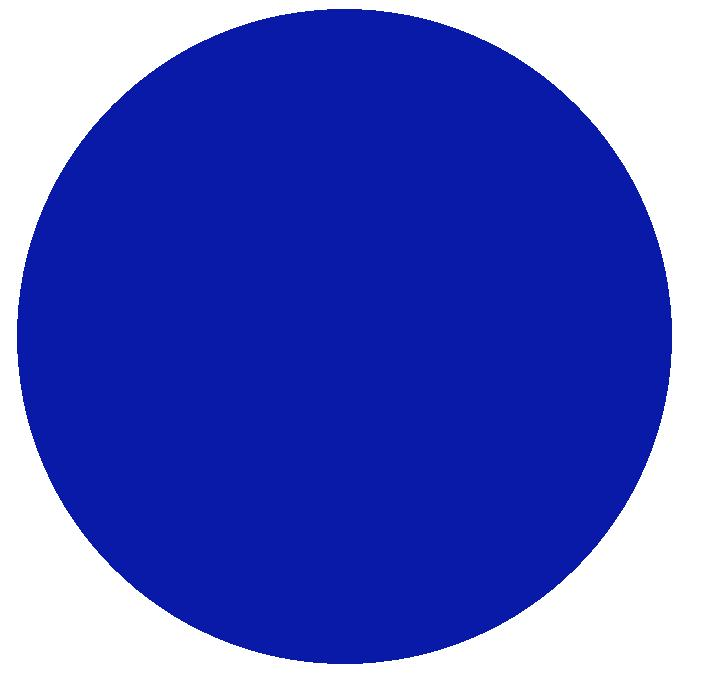blue_circle: (5, 0, 696, 675)
